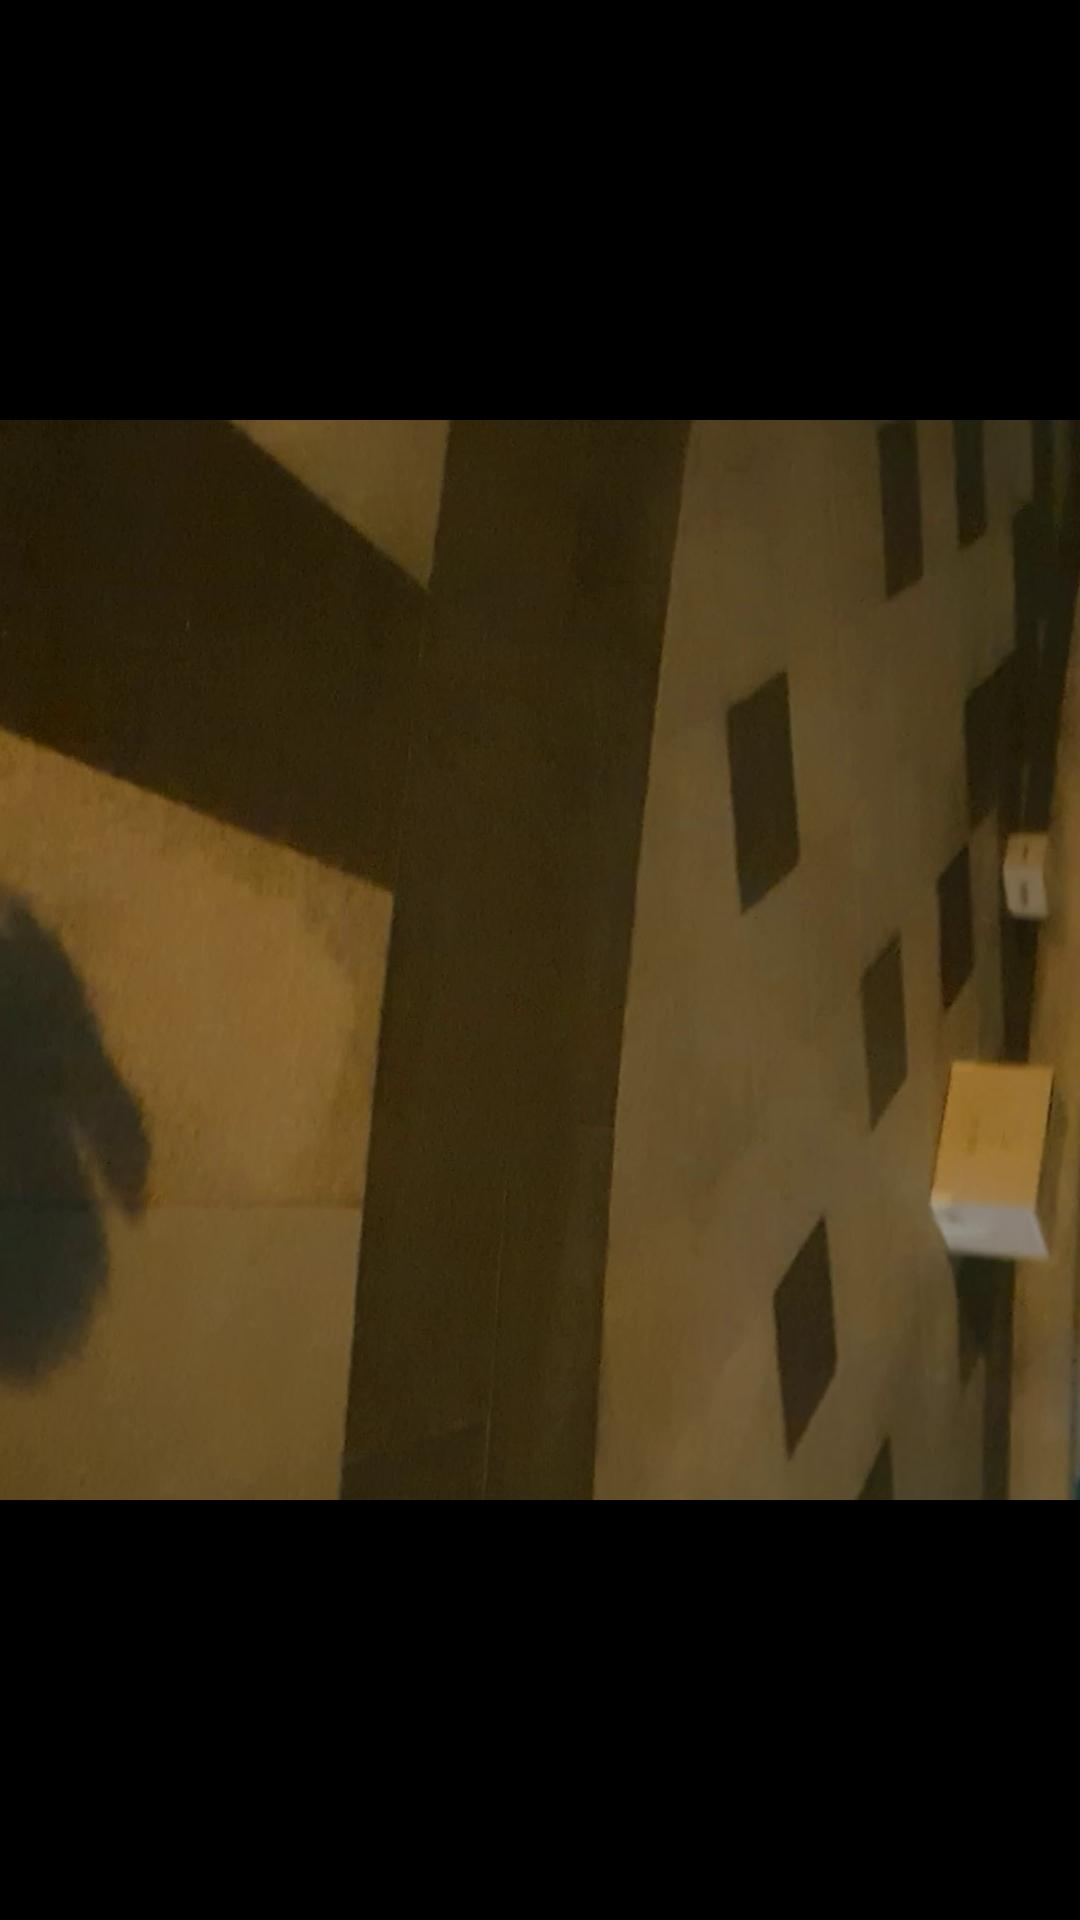Box: (916, 1056, 1080, 1267), (997, 823, 1072, 920)
